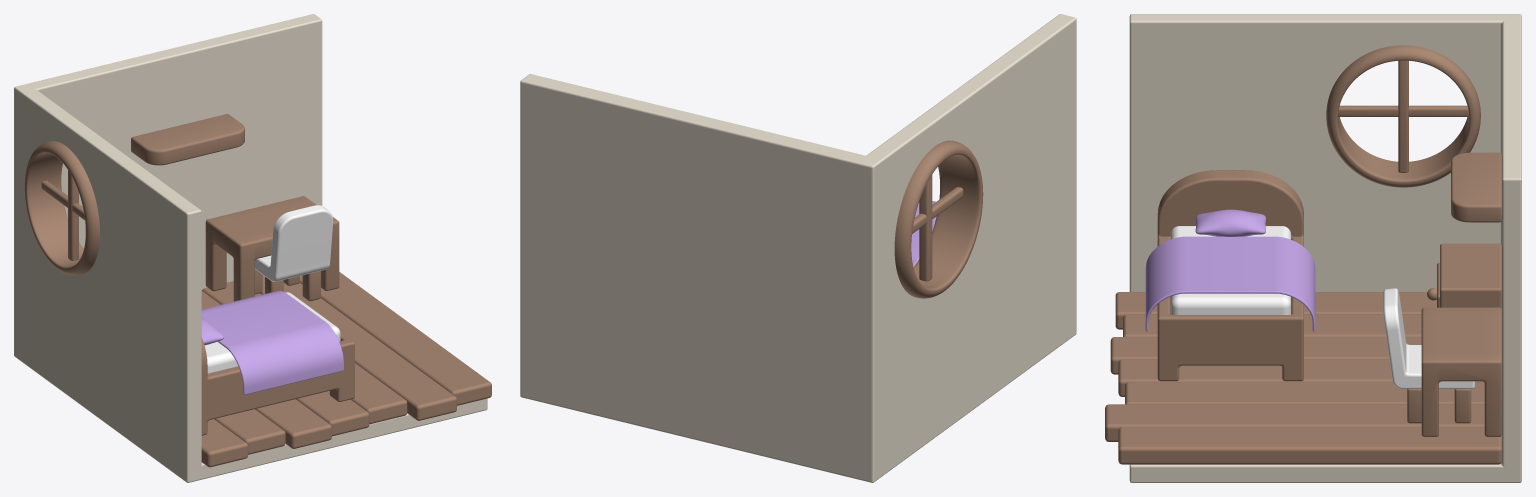
The model's file is room.glb.
3 views of the same model, side by side, from view 1: azimuth 30°, elevation 25°; view 2: azimuth 150°, elevation 25°; view 3: azimuth 270°, elevation 25° (orthographic). The views are drawn at different scales.
Parts seen in each view (by area): view 1: Room, Floor, Bedding, Table, WindowBorder, Bed, Chair, Shelf, Chair Leg, Mattress, WindowFrame; view 2: Room, WindowBorder, WindowFrame, WindowFrame2; view 3: Room, Floor, Bed, Bedding, Table, WindowBorder, Closet, Shelf, Mattress, Chair, Pillow, WindowFrame2 (+2 smaller).
Boxes of the visible parts, x1,y1,x2,y2 form: Room: (14, 14, 487, 482); Floor: (201, 272, 491, 467); Bedding: (201, 291, 343, 394); Table: (205, 196, 339, 301); WindowBorder: (24, 141, 99, 275); Bed: (201, 332, 354, 435); Chair: (254, 205, 333, 281); Shelf: (131, 114, 244, 165); Chair Leg: (254, 269, 320, 301); Mattress: (204, 292, 340, 373); WindowFrame: (68, 170, 78, 260); Room: (520, 14, 1076, 482); WindowBorder: (894, 140, 983, 298); WindowFrame: (919, 175, 932, 281); WindowFrame2: (912, 187, 963, 233); Room: (1129, 14, 1521, 482); Floor: (1105, 292, 1502, 464); Bed: (1157, 170, 1303, 381); Bedding: (1145, 236, 1315, 331); Table: (1421, 307, 1502, 436); WindowBorder: (1326, 45, 1480, 187); Closet: (1437, 243, 1502, 309); Shelf: (1451, 152, 1502, 222); Mattress: (1170, 226, 1291, 314); Chair: (1383, 288, 1474, 388); Pillow: (1195, 209, 1265, 236); WindowFrame2: (1338, 105, 1468, 116).
Bounding box in the file's own units: 7.23 × 6 × 7.44.
